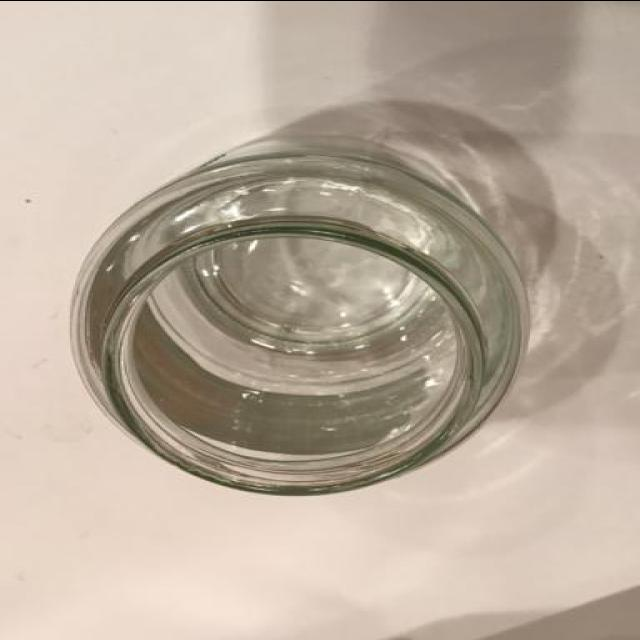glass: (65, 82, 552, 506)
